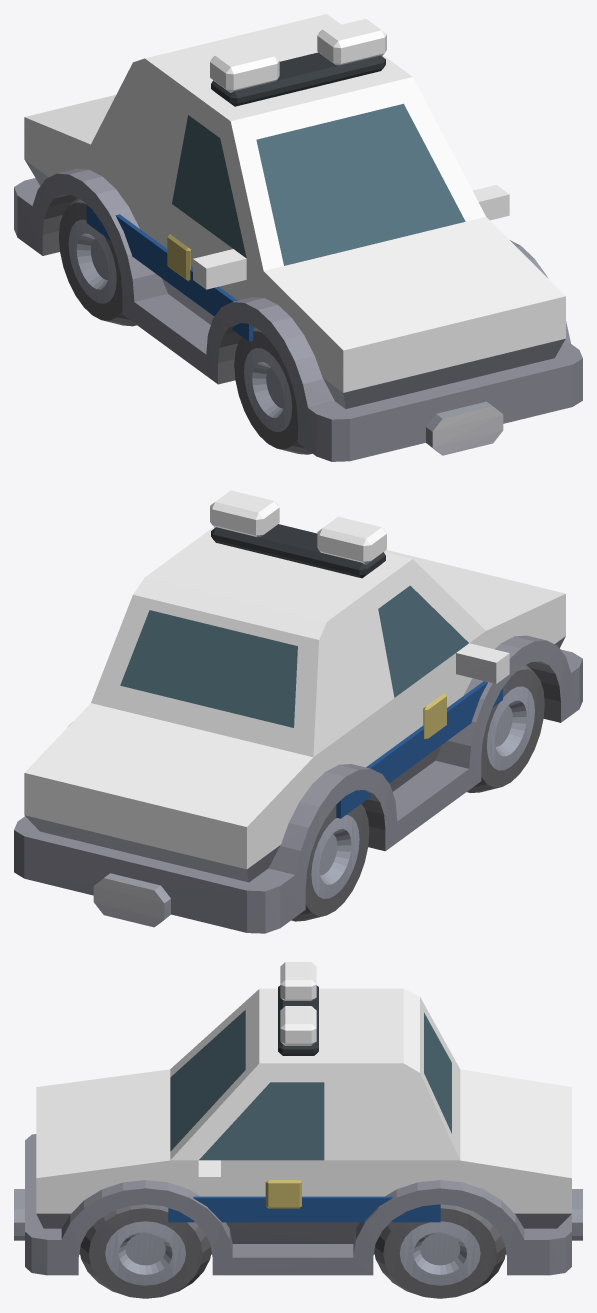
Rendered from police-car.glb.
3 renders of one model, top to bottom at view 1: azimuth 30°, elevation 25°; view 2: azimuth 150°, elevation 25°; view 3: azimuth 270°, elevation 25°, orthographic. The views are drawn at different scales.
Visible parts, largest first — view 1: trim, body, head, beacon_right, beacon_left; view 2: body, trim, beacon_right, tail, beacon_left; view 3: body, trim, beacon_left, beacon_right, head.
Part boxes in pixels (x1=…): trim: x1=14, y1=52, x2=582, y2=461; body: x1=24, y1=14, x2=565, y2=392; head: x1=330, y1=296, x2=565, y2=371; beacon_right: x1=210, y1=45, x2=279, y2=92; beacon_left: x1=317, y1=18, x2=386, y2=65; body: x1=24, y1=527, x2=565, y2=869; trim: x1=14, y1=524, x2=582, y2=933; beacon_right: x1=317, y1=516, x2=386, y2=564; tail: x1=24, y1=773, x2=246, y2=848; beacon_left: x1=210, y1=490, x2=279, y2=537; body: x1=36, y1=988, x2=571, y2=1213; trim: x1=14, y1=985, x2=582, y2=1298; beacon_left: x1=280, y1=1006, x2=316, y2=1045; beacon_right: x1=280, y1=962, x2=316, y2=1000; head: x1=36, y1=1175, x2=58, y2=1195.
Size of the model in its own units: 2.43 by 2.41 by 4.7.
